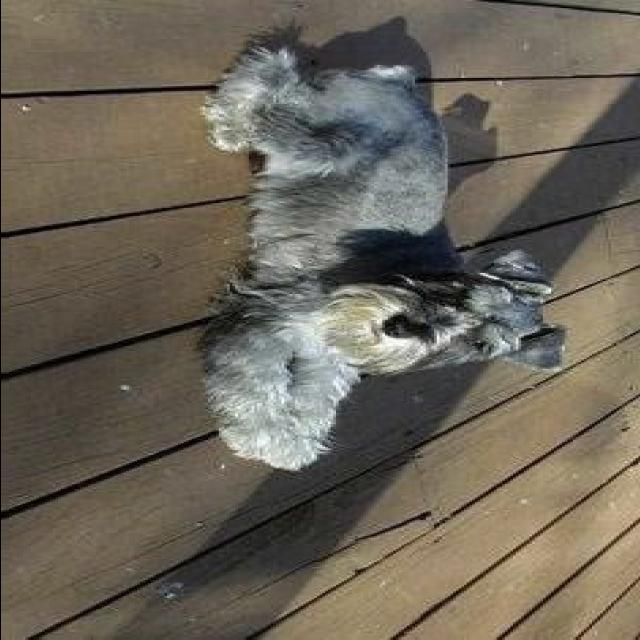standard_schnauzer: (196, 41, 569, 470)
